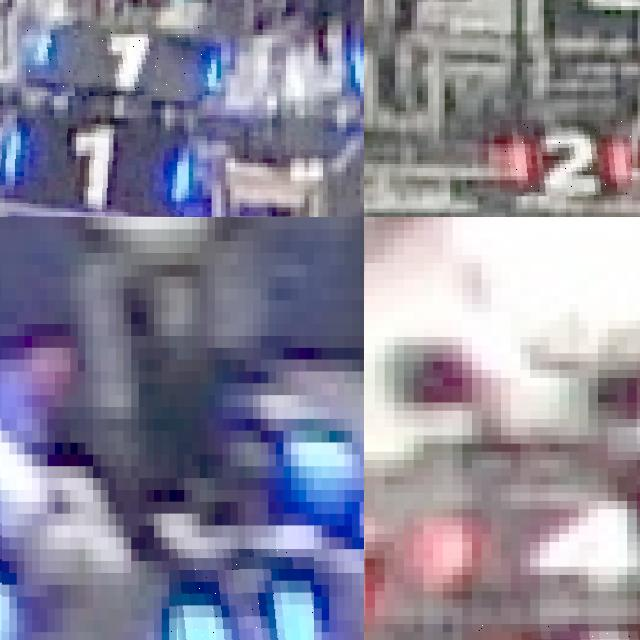B1: (0, 118, 188, 211), (27, 25, 216, 96)
B5: (169, 549, 314, 640)
R2: (500, 120, 632, 196)
